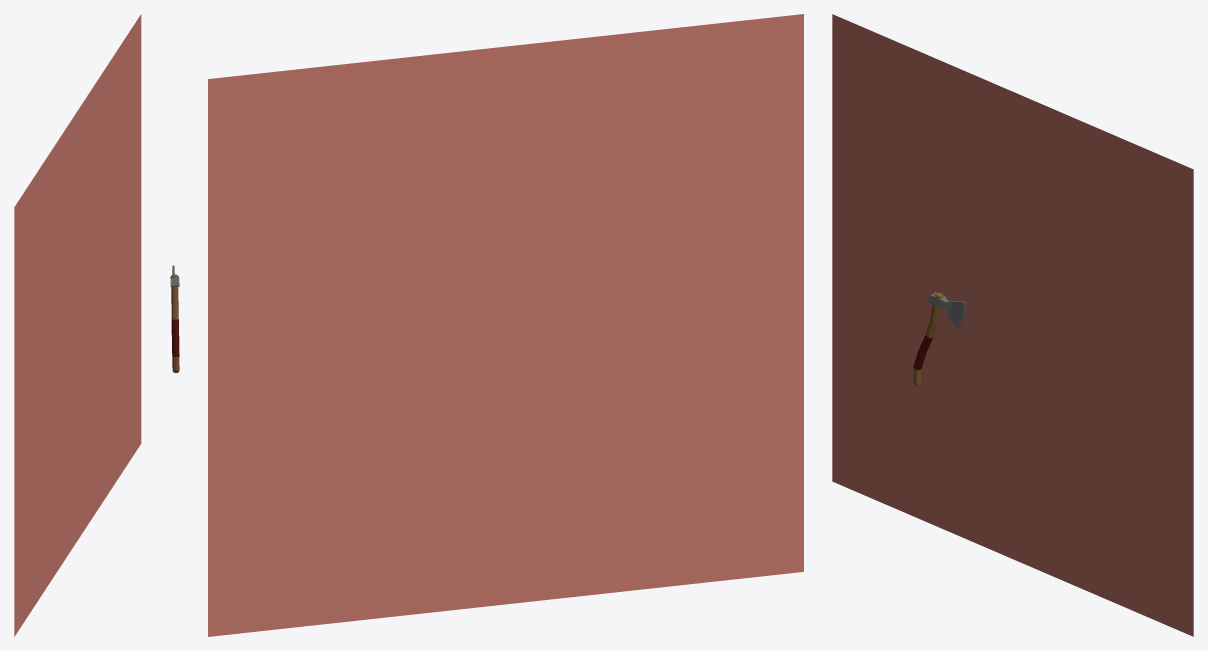
The model's file is low_poly_axe.glb.
3 views of the same model, side by side, from view 1: azimuth 30°, elevation 25°; view 2: azimuth 150°, elevation 25°; view 3: azimuth 270°, elevation 25° (orthographic). The views are drawn at different scales.
Parts seen in each view (by area): view 1: Plane, Wood, straich; view 2: Plane; view 3: Plane, Steel.
Part boxes in pixels (x1,y1,x2,y2): Plane: (14, 14, 141, 636); Wood: (171, 274, 179, 372); straich: (171, 319, 179, 356); Plane: (208, 14, 803, 636); Plane: (832, 14, 1193, 636); Steel: (927, 292, 966, 327).
Size of the model in its own units: 17.53 by 24.58 by 17.23.
